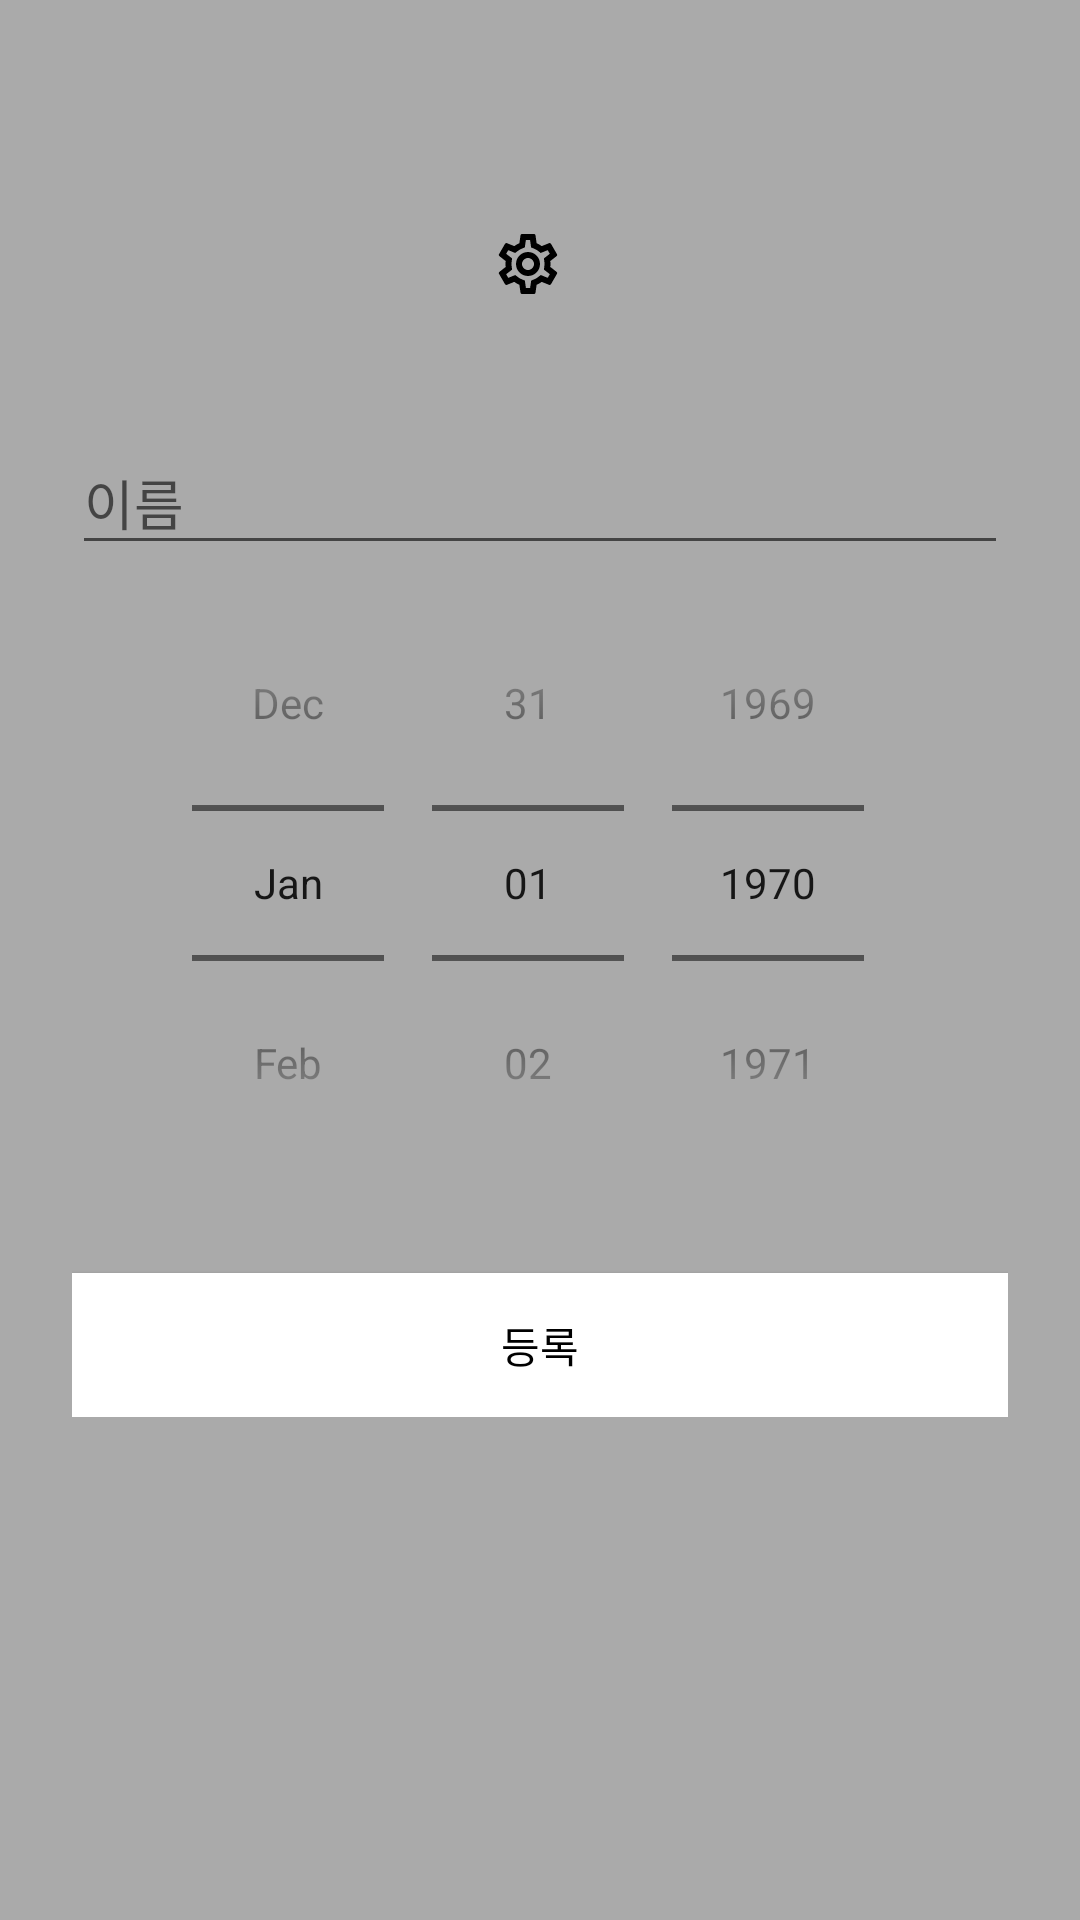

Icons on this 1080*1920 Android screen, each with its box as (x1, y1, x2, y2):
settings: (499, 234, 557, 294)
